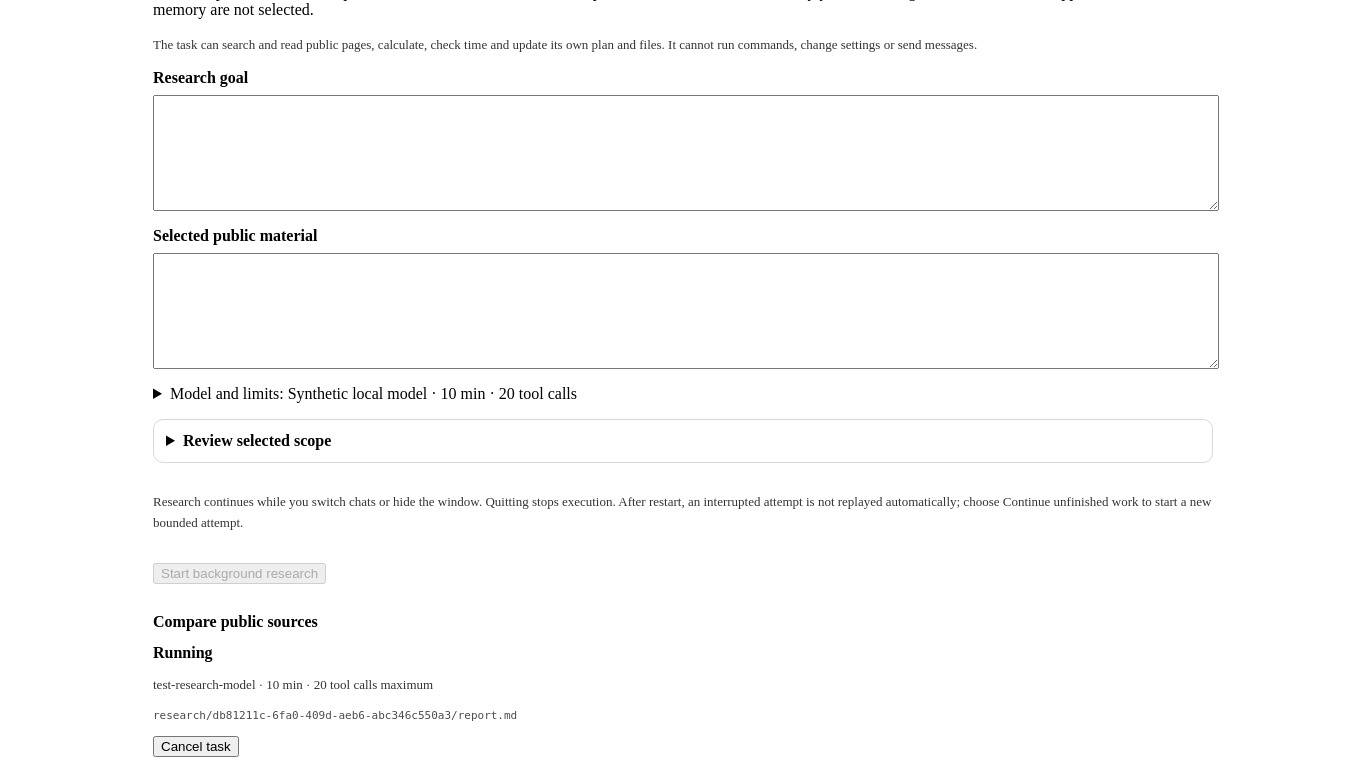
background research UI › shows cancellation separately from existing results and unmounting does not cancel work
(page scrolled)
Click the button "Cancel task" at (196, 747), box [153,736,239,757]
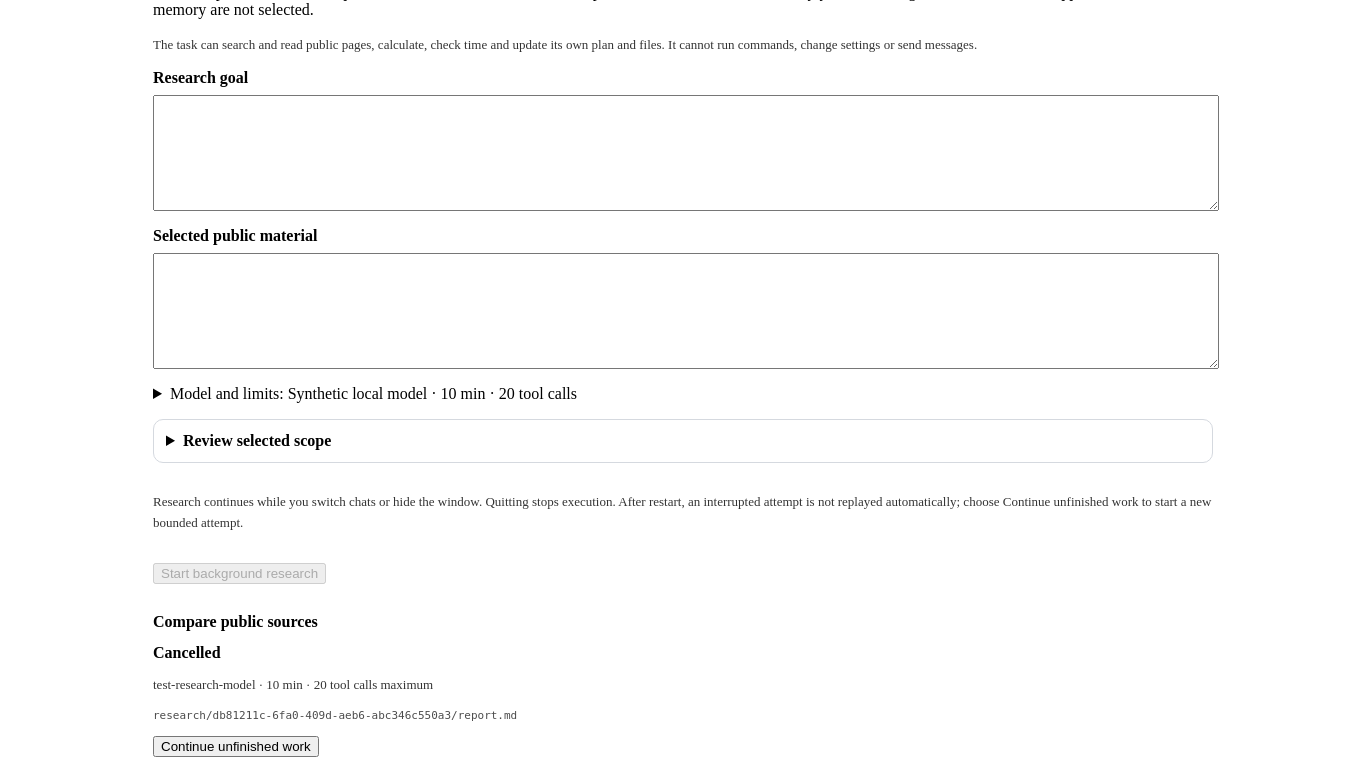
Expected: the message reads "Cancelled", [153,644,220,661]
